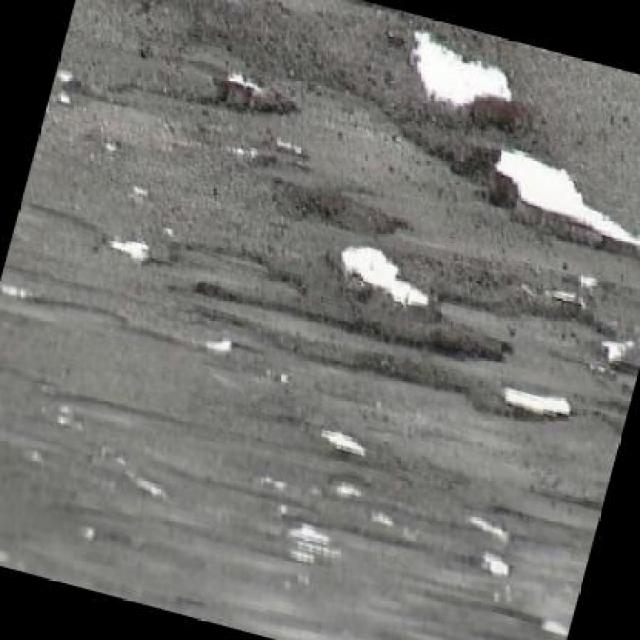pothole1: (426, 129, 639, 274), (389, 22, 536, 144), (324, 237, 441, 321), (464, 371, 578, 442), (349, 344, 474, 407), (200, 68, 309, 135), (417, 307, 515, 371)
